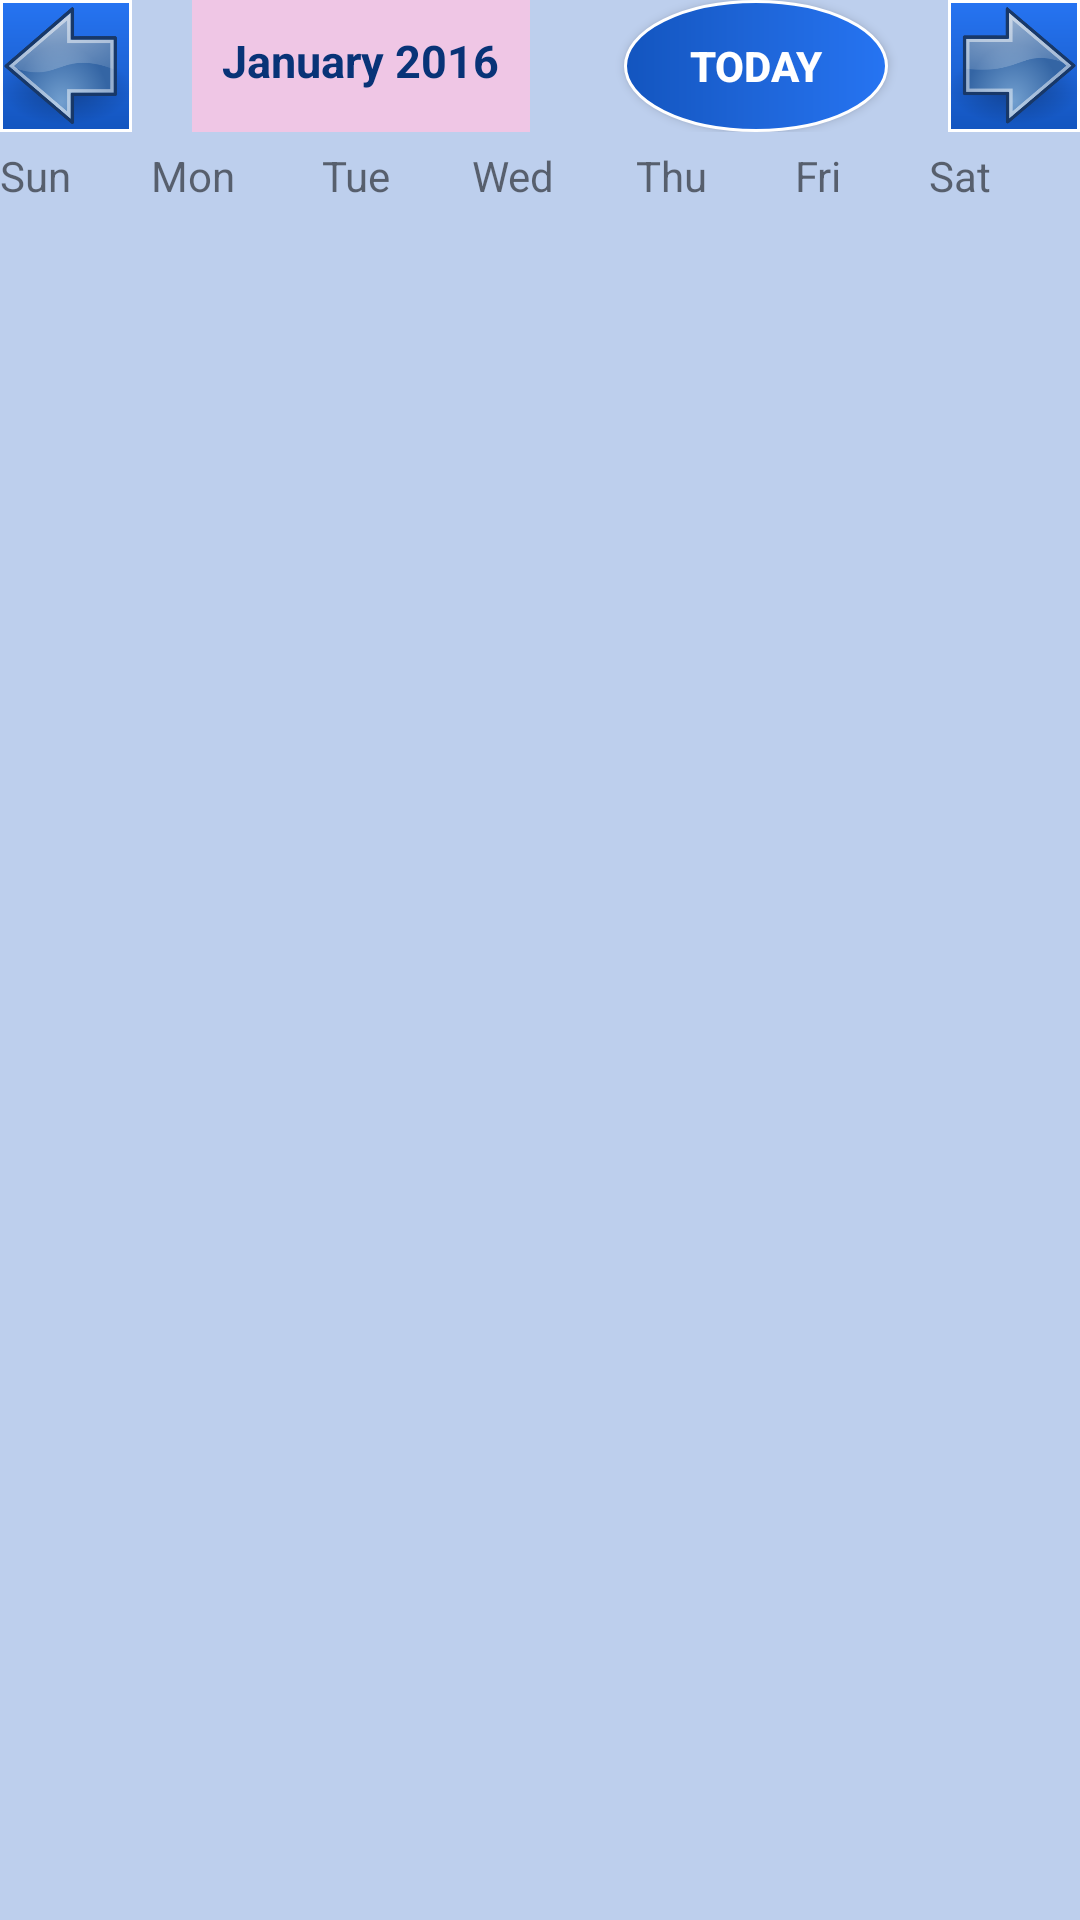

Icon bounding boxes for this 1080x1920 phone screenshot, format rect(x1, y1, x2, y2):
left arrow: rect(0, 0, 132, 132)
right arrow: rect(948, 0, 1080, 132)
